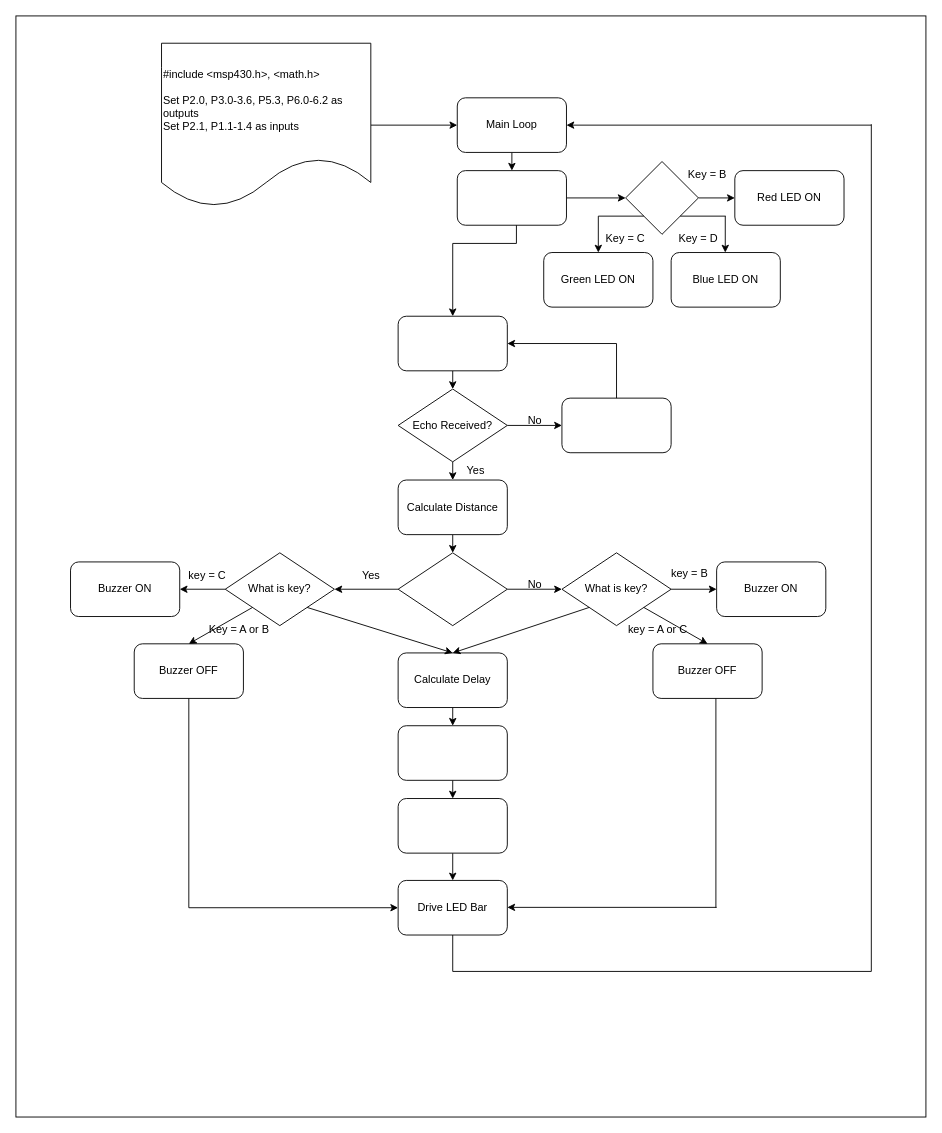
Image size: 942x1133. Some labels were removed from this diagram. The centre of each missing label's shape, as x and y in pixels:
"Delay" belongs at [452,752].
"Distance > 5?" belongs at [452,589].
"Increment Count" belongs at [616,425].
"key = ?" belongs at [661,197].
"Read Keypad" belongs at [511,197].
"Toggle Buzzer" belongs at [452,825].
"Trigger Echo" belongs at [452,343].
